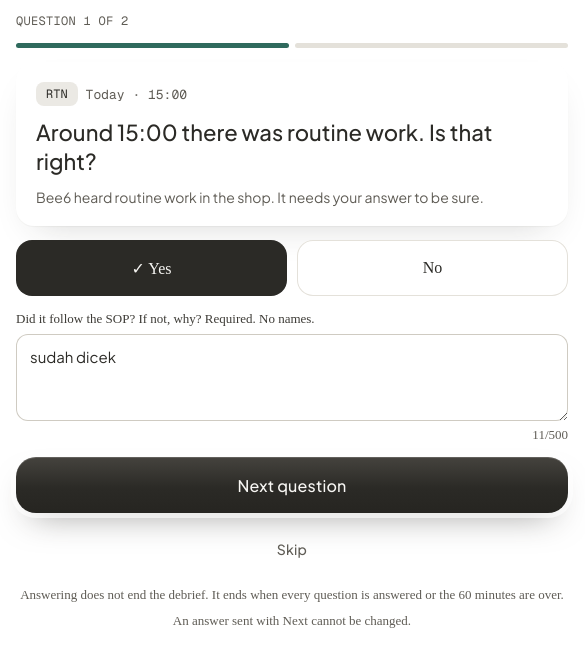
it: QuestionScreen: choice › switching Ya to Tidak keeps the typed text and swaps the label
Expected: the text "Did it follow the SOP? If not, why?" is shown, [16,311,202,326]
Click the radio button labelled "No" at (432, 268), box [297,240,568,296]
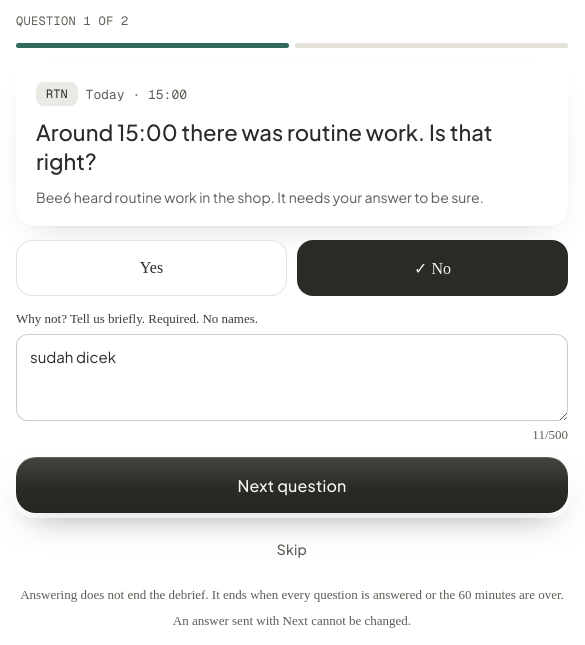
Expected: the text box holds "sudah dicek", [16,334,568,421]
Expected: the text "Why not? Tell us briefly." is shown, [16,311,145,326]
